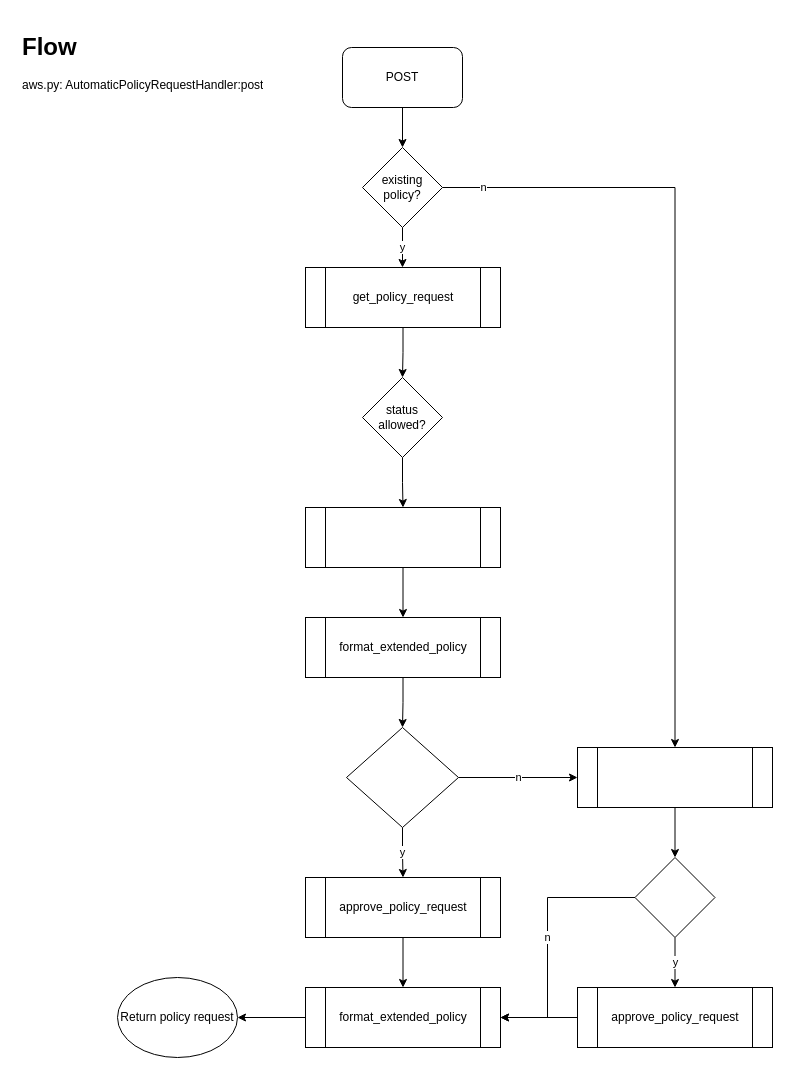
This 790x1075 diagram has some shape labels left out. The shapes that lost their labels are listed below. From the top down, each one's box as (x1, y1, x2, y2) in pixels, then its label:
(304, 506, 500, 568): update_policy_request
(346, 726, 458, 828): permission flow == approve
(576, 746, 772, 808): create_policy_request
(634, 856, 715, 938): auto_apply?
